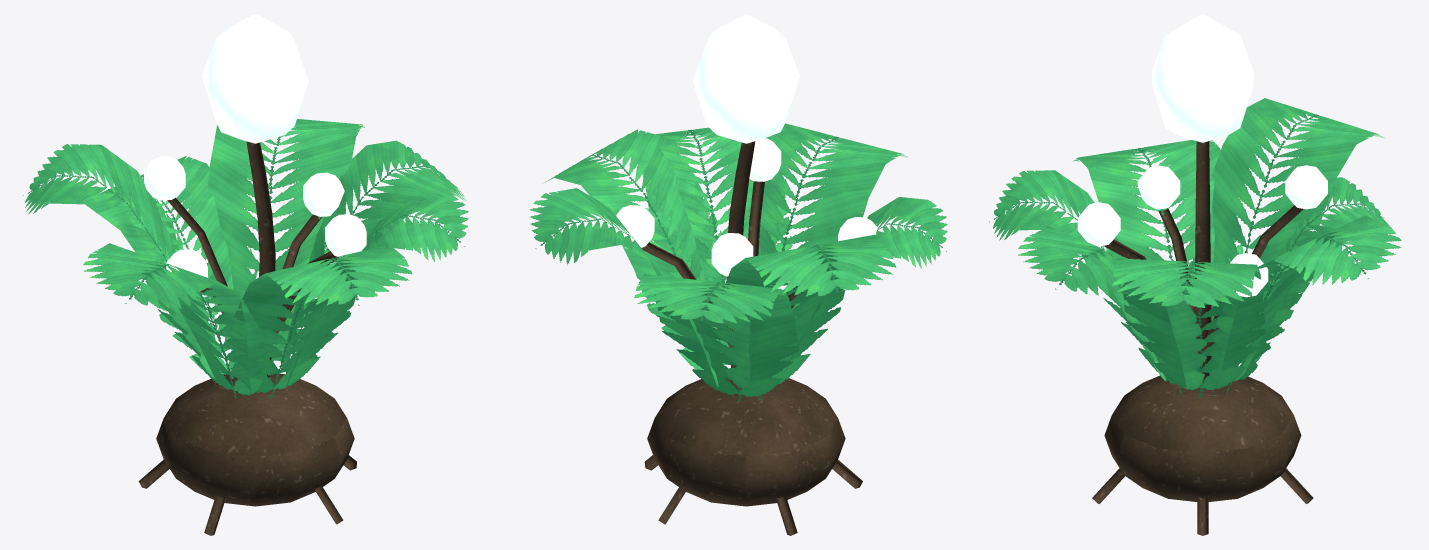
The model's file is spirit_herb.glb.
3 renders of one model, left to right at view 1: azimuth 30°, elevation 25°; view 2: azimuth 150°, elevation 25°; view 3: azimuth 270°, elevation 25°, orthographic.
Parts seen in each view (by area): view 1: HerbLeaves, HerbSoil, HerbBuds, HerbStems; view 2: HerbLeaves, HerbSoil, HerbBuds, HerbStems; view 3: HerbLeaves, HerbSoil, HerbBuds, HerbStems.
Part boxes in pixels (<box>): HerbLeaves: <box>23,119,468,399</box>; HerbSoil: <box>156,373,354,506</box>; HerbBuds: <box>144,14,366,277</box>; HerbStems: <box>138,141,356,535</box>; HerbLeaves: <box>529,123,947,401</box>; HerbSoil: <box>647,378,845,506</box>; HerbBuds: <box>613,14,879,276</box>; HerbStems: <box>641,141,862,535</box>; HerbLeaves: <box>989,98,1401,398</box>; HerbSoil: <box>1104,375,1301,501</box>; HerbBuds: <box>1077,14,1327,297</box>; HerbStems: <box>1092,141,1313,535</box>.
Bounding box in the file's own units: 0.3211 × 0.3728 × 0.3036.
3 materials, 2 textured.
